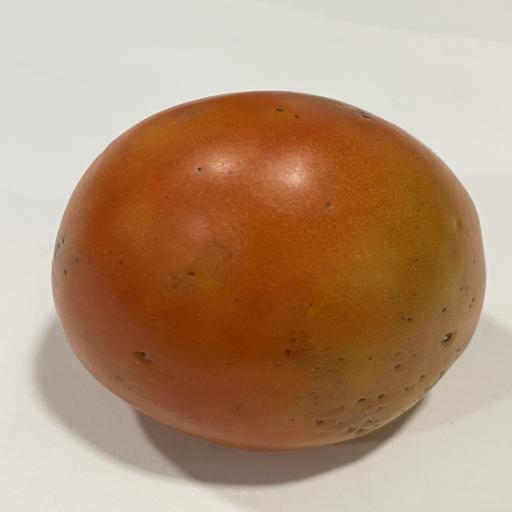ripe: (52, 91, 485, 450)
